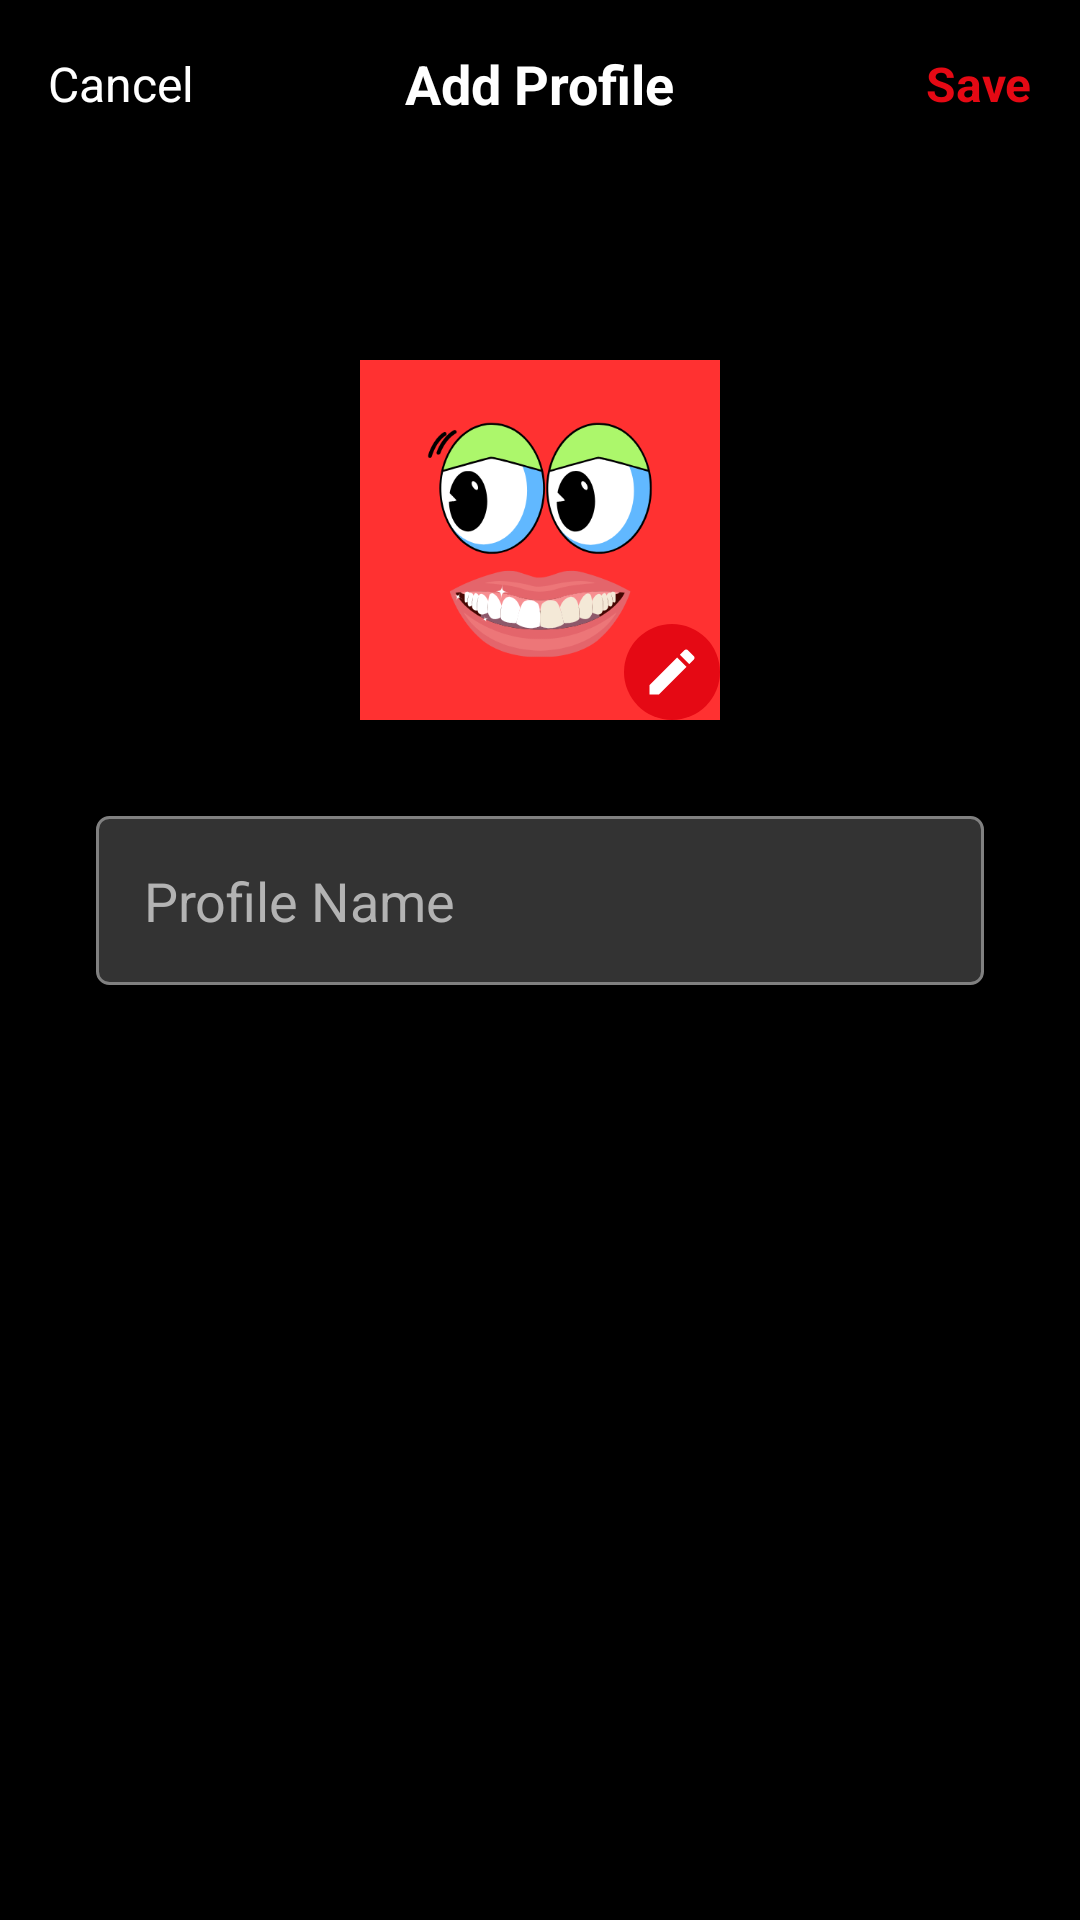

Icons on this 1080 × 1920 Android screen, each with the point to tap as point (x, y):
edit: point (672, 672)
